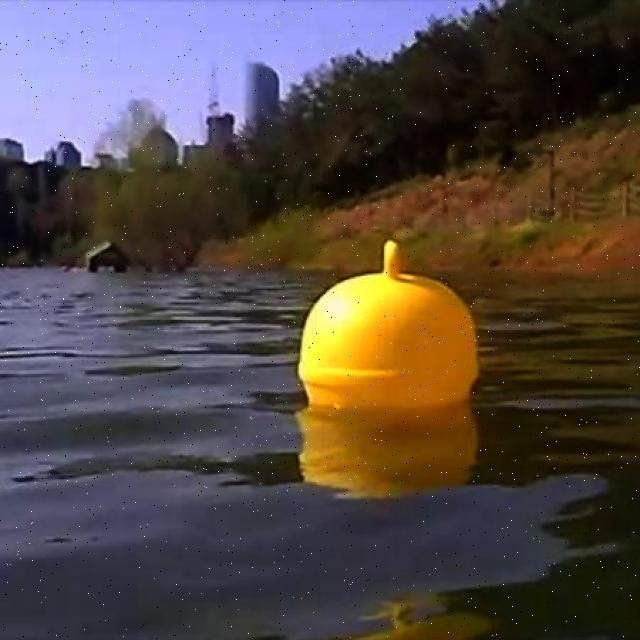buoy: (300, 238, 479, 413)
